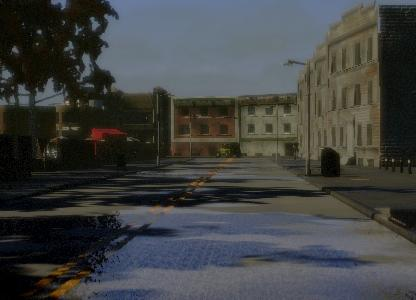Speed_60: (298, 111, 335, 150)
